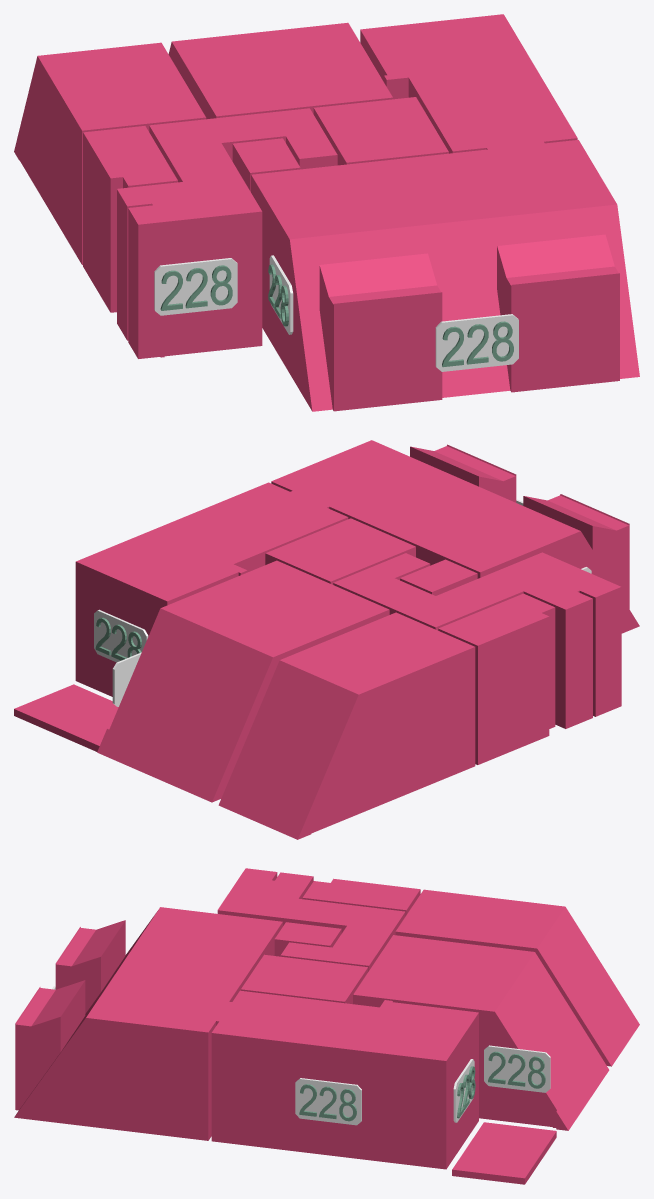
The picture shows the model from 3 angles, top to bottom: view 1: azimuth 30°, elevation 25°; view 2: azimuth 150°, elevation 25°; view 3: azimuth 270°, elevation 25°; orthographic projection. The views are drawn at different scales.
Parts seen in each view (by area): view 1: g_0, g_5, g_1, g_3, g_2, g_7, g_4, g_28, g_16, g_6, g_32; view 2: g_3, g_2, g_0, g_1, g_5, g_7, g_4, g_8, g_6, g_12, g_20; view 3: g_0, g_1, g_2, g_3, g_5, g_8, g_4, g_7, g_20, g_24, g_6, g_12.
Boxes of the visible parts, x1=… form: g_0: x1=251, y1=140, x2=639, y2=411; g_5: x1=117, y1=108, x2=337, y2=358; g_1: x1=360, y1=14, x2=577, y2=153; g_3: x1=14, y1=42, x2=206, y2=264; g_2: x1=168, y1=22, x2=392, y2=119; g_7: x1=83, y1=126, x2=177, y2=312; g_4: x1=313, y1=97, x2=448, y2=165; g_28: x1=435, y1=314, x2=518, y2=371; g_16: x1=154, y1=258, x2=237, y2=315; g_6: x1=232, y1=138, x2=300, y2=191; g_32: x1=269, y1=255, x2=293, y2=334; g_3: x1=218, y1=612, x2=475, y2=839; g_2: x1=97, y1=560, x2=389, y2=802; g_0: x1=271, y1=440, x2=639, y2=633; g_1: x1=75, y1=482, x2=348, y2=696; g_5: x1=333, y1=552, x2=621, y2=728; g_7: x1=438, y1=593, x2=555, y2=764; g_4: x1=265, y1=518, x2=415, y2=584; g_8: x1=14, y1=684, x2=118, y2=751; g_6: x1=400, y1=559, x2=477, y2=595; g_12: x1=94, y1=609, x2=148, y2=662; g_20: x1=112, y1=652, x2=141, y2=706; g_0: x1=14, y1=907, x2=282, y2=1140; g_1: x1=211, y1=990, x2=478, y2=1169; g_2: x1=353, y1=935, x2=609, y2=1130; g_3: x1=395, y1=889, x2=639, y2=1066; g_5: x1=217, y1=868, x2=405, y2=971; g_8: x1=452, y1=1122, x2=556, y2=1184; g_4: x1=241, y1=954, x2=368, y2=1004; g_7: x1=302, y1=878, x2=420, y2=915; g_20: x1=484, y1=1045, x2=550, y2=1092; g_24: x1=295, y1=1078, x2=361, y2=1125; g_6: x1=274, y1=922, x2=341, y2=956; g_12: x1=453, y1=1059, x2=474, y2=1122.
Bounding box in the file's own units: 10.12 × 2.71 × 13.31.
